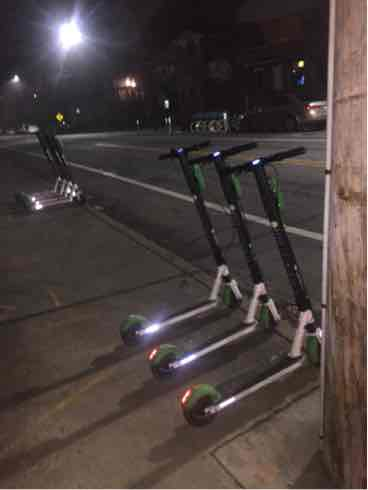too close: (197, 254, 249, 322), (244, 280, 292, 346), (68, 188, 94, 217)
